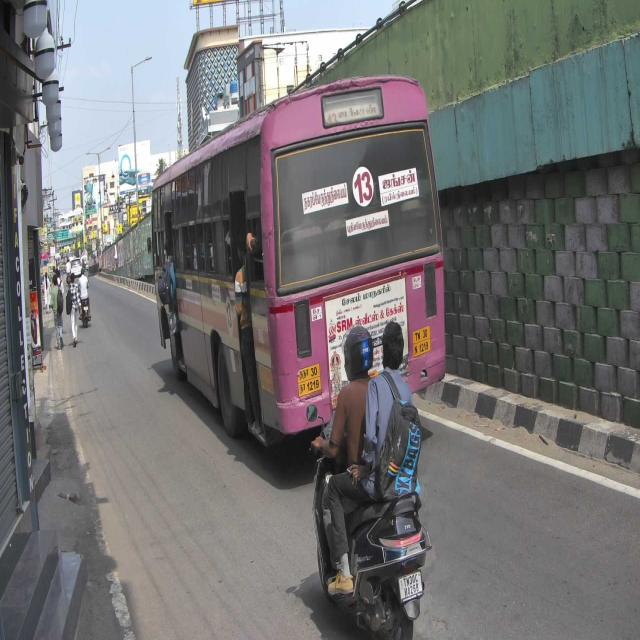double_rider: (306, 315, 428, 640)
